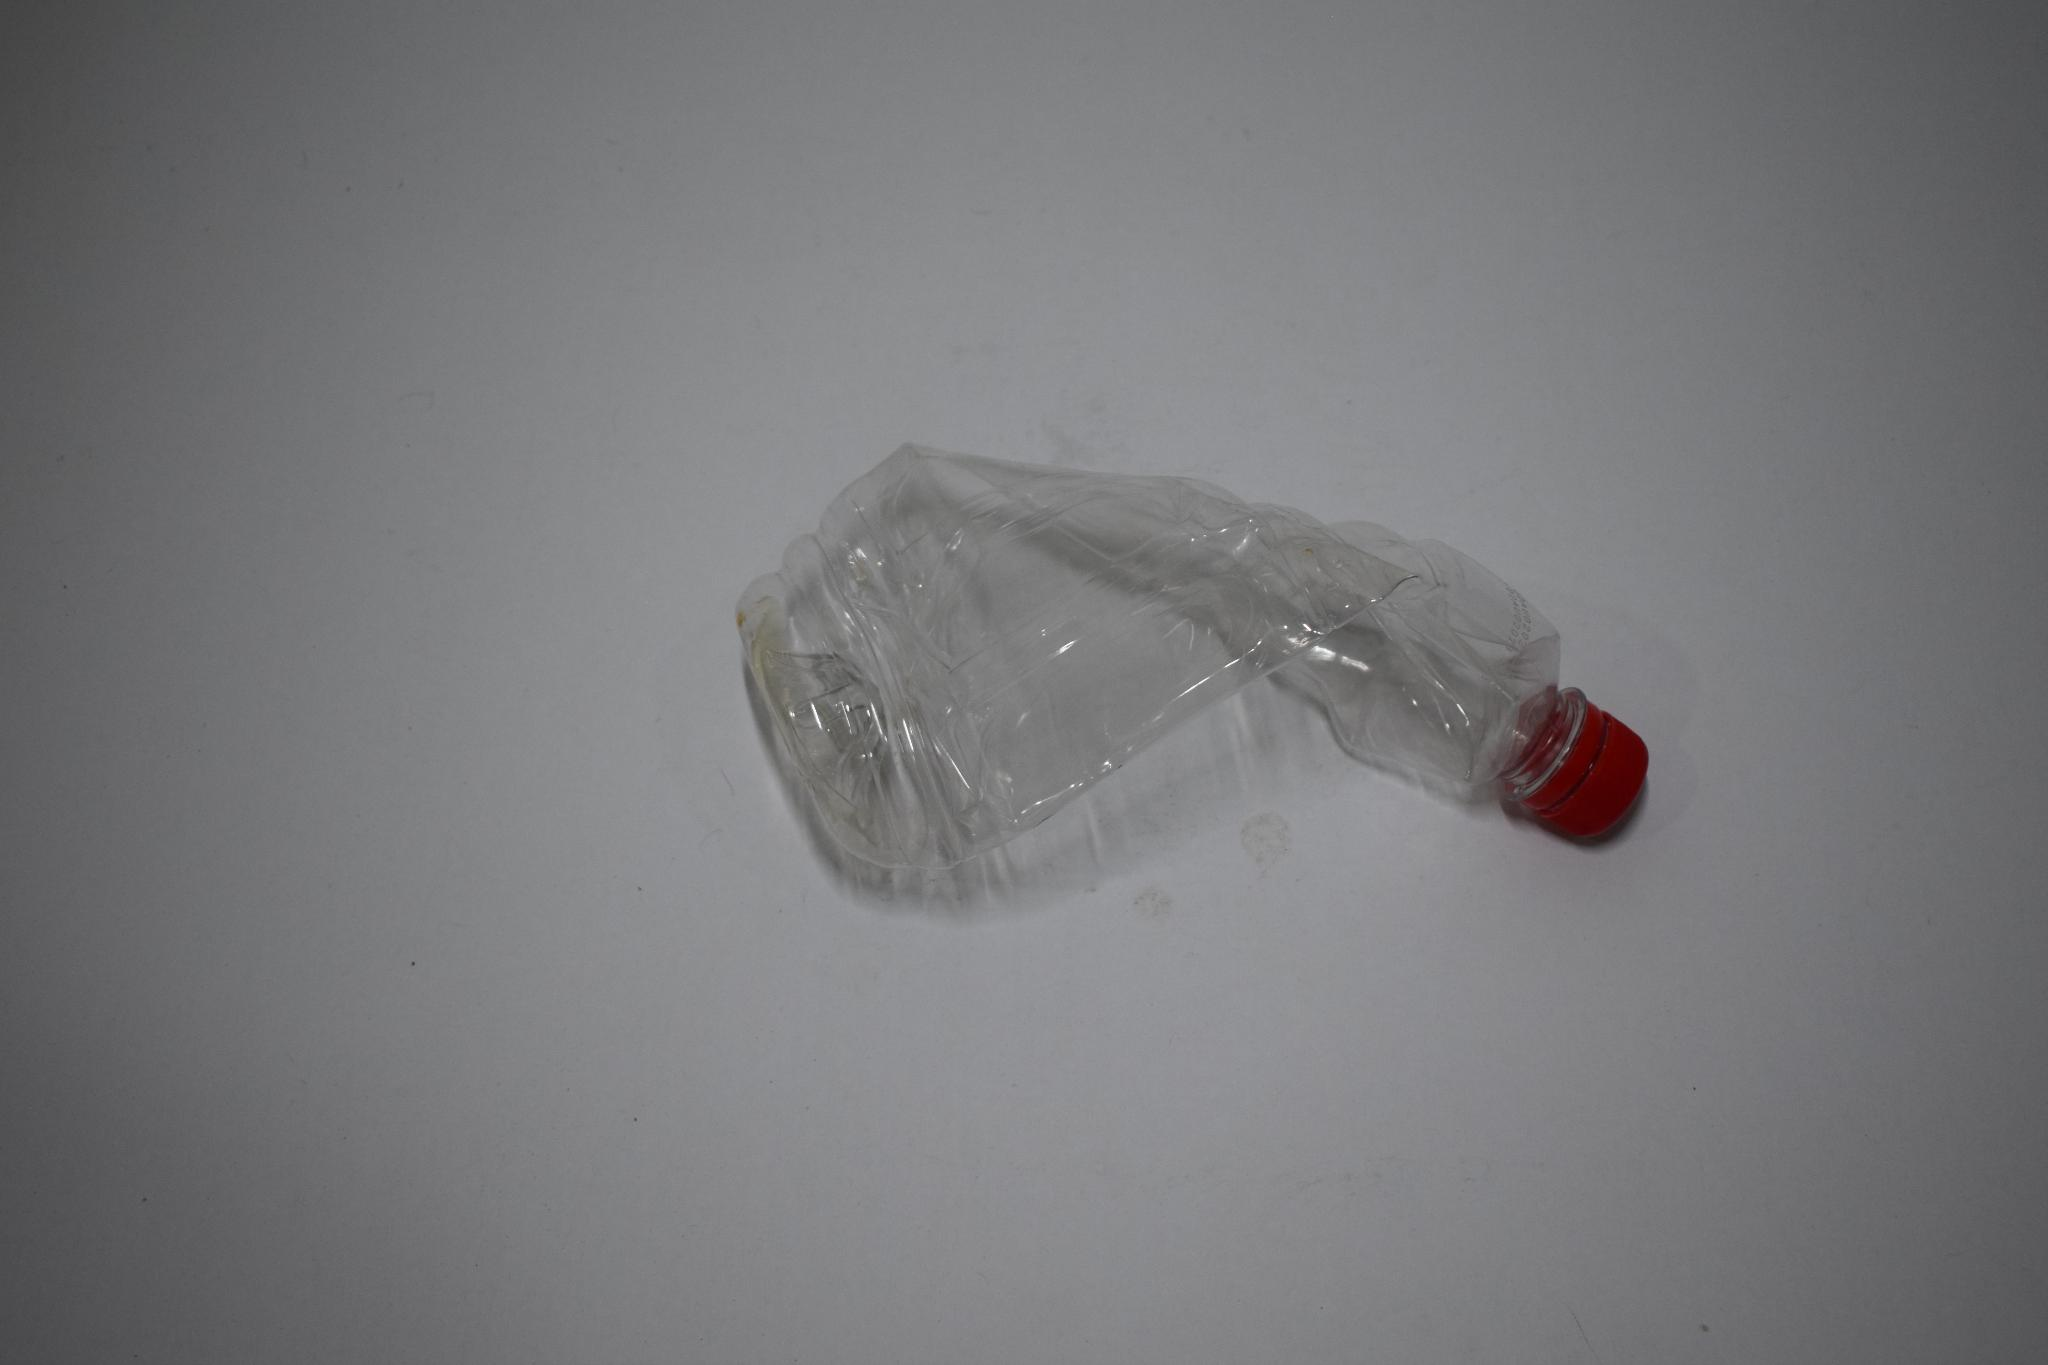bottle: (574, 434, 1826, 934)
